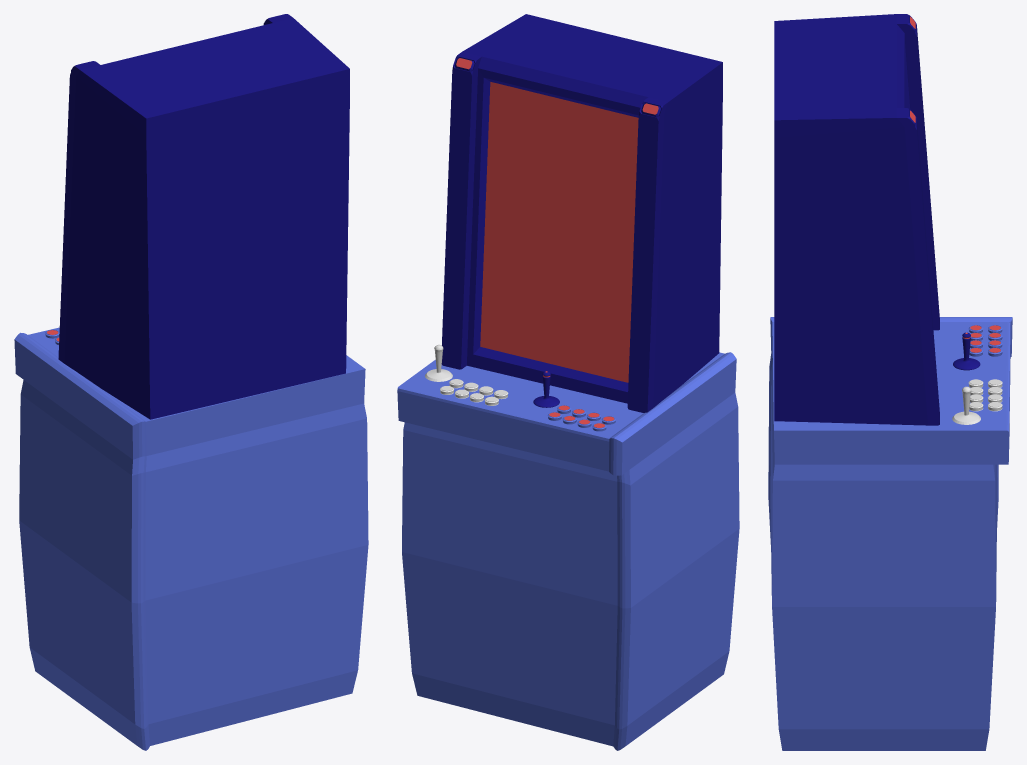
Rendered from arcade.fbx.
3 views of the same model, side by side, from view 1: azimuth 30°, elevation 25°; view 2: azimuth 150°, elevation 25°; view 3: azimuth 270°, elevation 25° (orthographic). The views are drawn at different scales.
Visible parts, largest first — view 1: Base, Display; view 2: Base, Display, Buttons.L, Buttons.R; view 3: Base, Display, Buttons.L, Buttons.R, Joystick.L, Joystick.R.
Part boxes in pixels (x1,y1,x2,y2): Base: [14, 327, 368, 750]; Display: [58, 14, 349, 419]; Base: [397, 352, 739, 750]; Display: [441, 14, 722, 412]; Buttons.L: [440, 379, 508, 405]; Buttons.R: [547, 405, 615, 431]; Base: [768, 317, 1012, 750]; Display: [774, 14, 939, 425]; Buttons.L: [968, 379, 1002, 411]; Buttons.R: [968, 325, 1002, 356]; Joystick.L: [952, 386, 980, 424]; Joystick.R: [953, 332, 980, 370].
Size of the model in its own units: 288 by 742 by 258.
